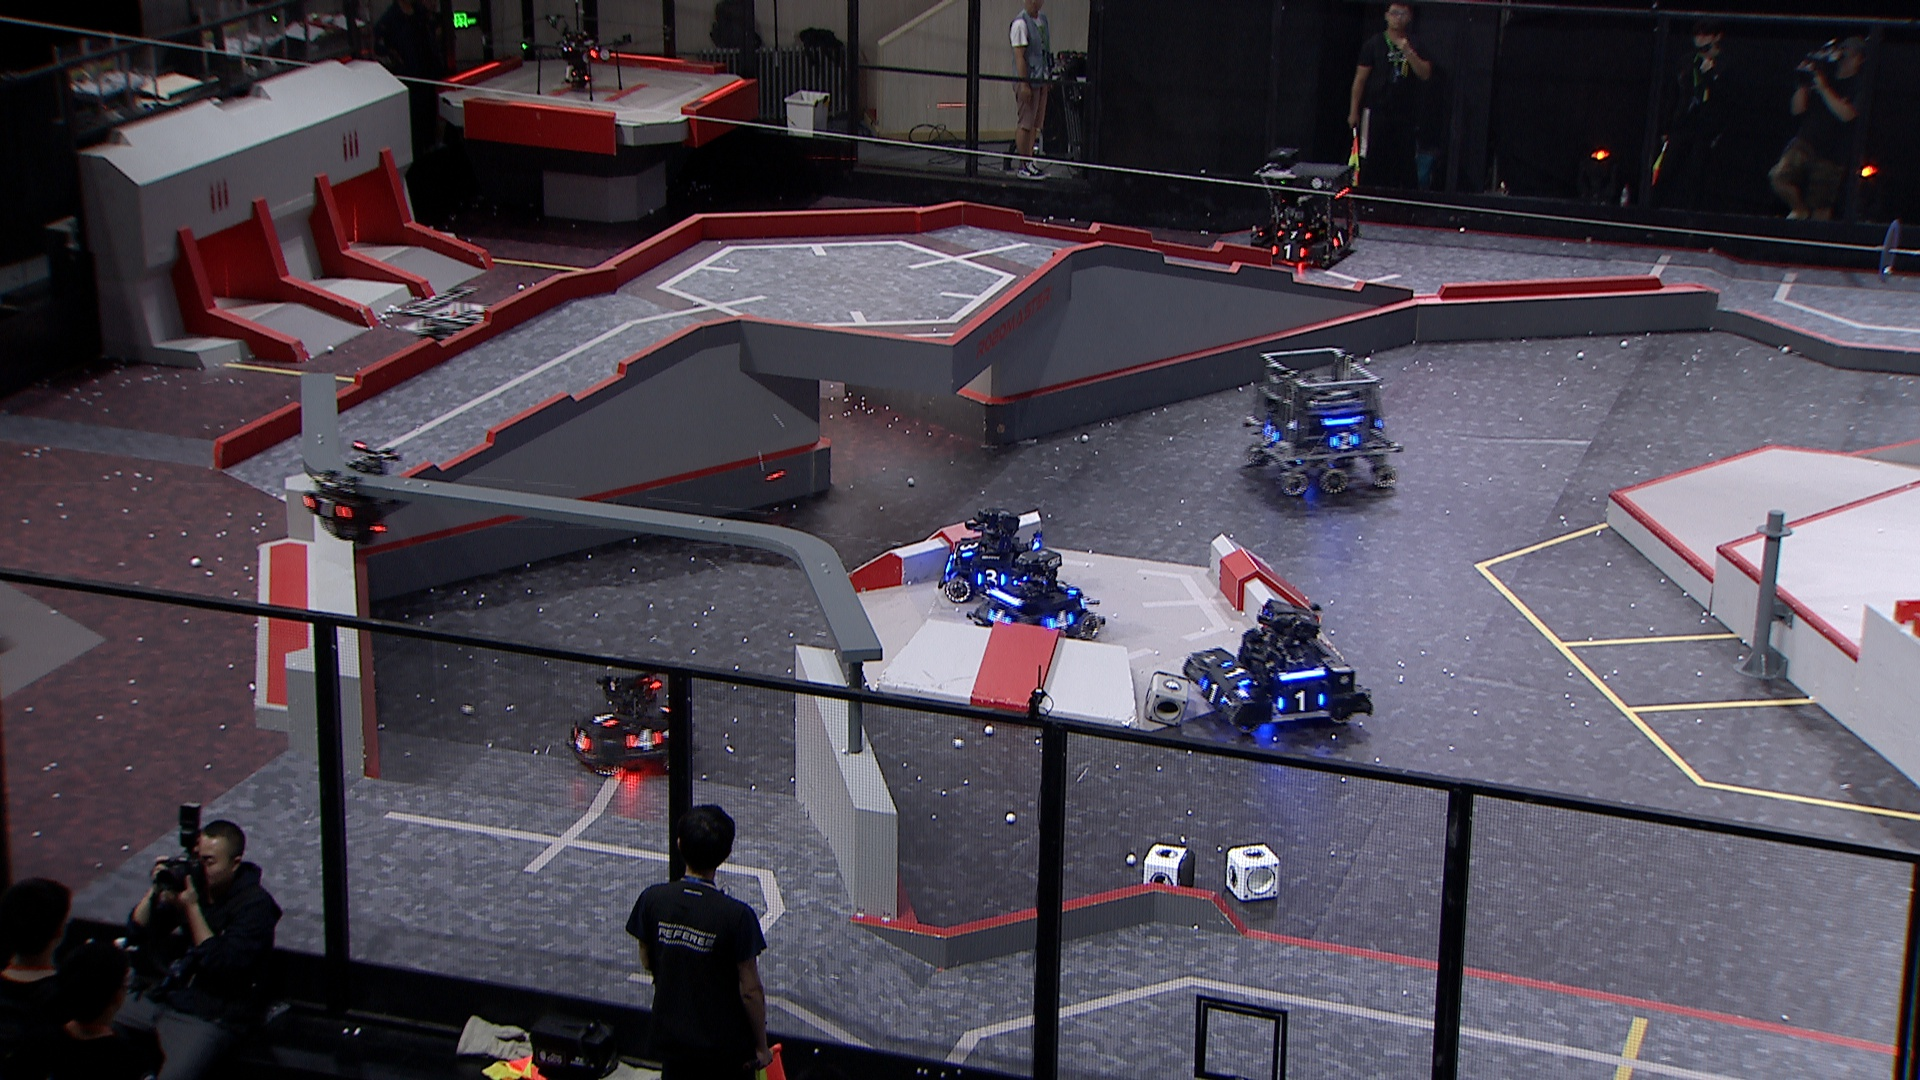armor: (301, 493, 356, 524), (1276, 690, 1325, 717), (1216, 657, 1253, 692), (621, 727, 666, 752), (1197, 675, 1229, 708), (972, 568, 1011, 593), (1269, 240, 1307, 262), (589, 705, 621, 731), (567, 723, 591, 756), (1046, 607, 1076, 632), (1273, 225, 1316, 243), (1327, 431, 1360, 452), (955, 534, 978, 560), (986, 608, 1013, 632), (1329, 225, 1349, 249), (1259, 419, 1278, 442)
car: (1178, 597, 1371, 735), (1247, 343, 1396, 500), (381, 282, 510, 405), (959, 547, 1109, 646), (1242, 154, 1364, 270), (564, 666, 688, 775), (935, 504, 1060, 605)
watcher: (295, 438, 394, 546)
